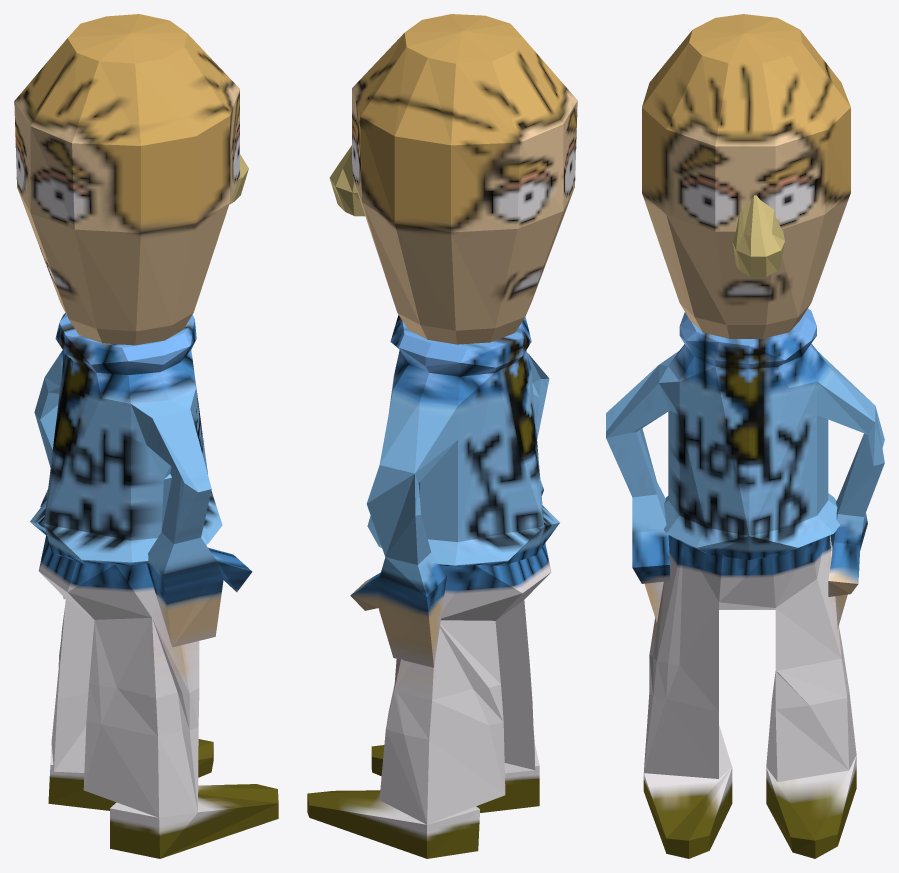
File: PipMap.glb
3 views of the same model, side by side, from view 1: azimuth 30°, elevation 25°; view 2: azimuth 150°, elevation 25°; view 3: azimuth 270°, elevation 25° (orthographic).
Parts seen in each view (by area): view 1: PipMap; view 2: PipMap; view 3: PipMap.
Part boxes in pixels (bbox=[...]): PipMap: bbox=[14, 14, 278, 858]; PipMap: bbox=[307, 14, 577, 858]; PipMap: bbox=[606, 14, 884, 858].
Size of the model in its own units: 34.28 by 116 by 37.98.
1 material, 1 textured.
